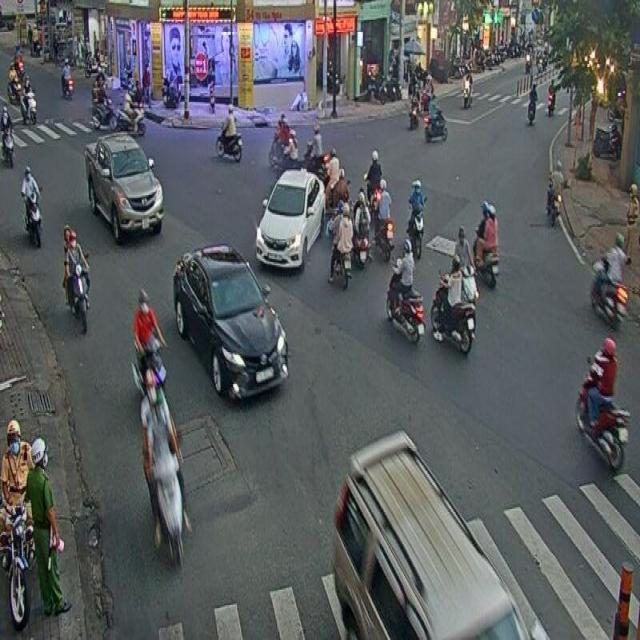car: (333, 429, 528, 640), (173, 245, 288, 398), (84, 131, 163, 244), (256, 169, 325, 268)
motorcycle: (574, 337, 630, 472), (430, 255, 476, 355), (386, 239, 424, 343), (62, 222, 90, 334), (472, 200, 499, 288), (20, 164, 42, 247), (214, 104, 243, 162), (374, 177, 394, 260), (407, 178, 427, 259), (353, 186, 371, 273)
